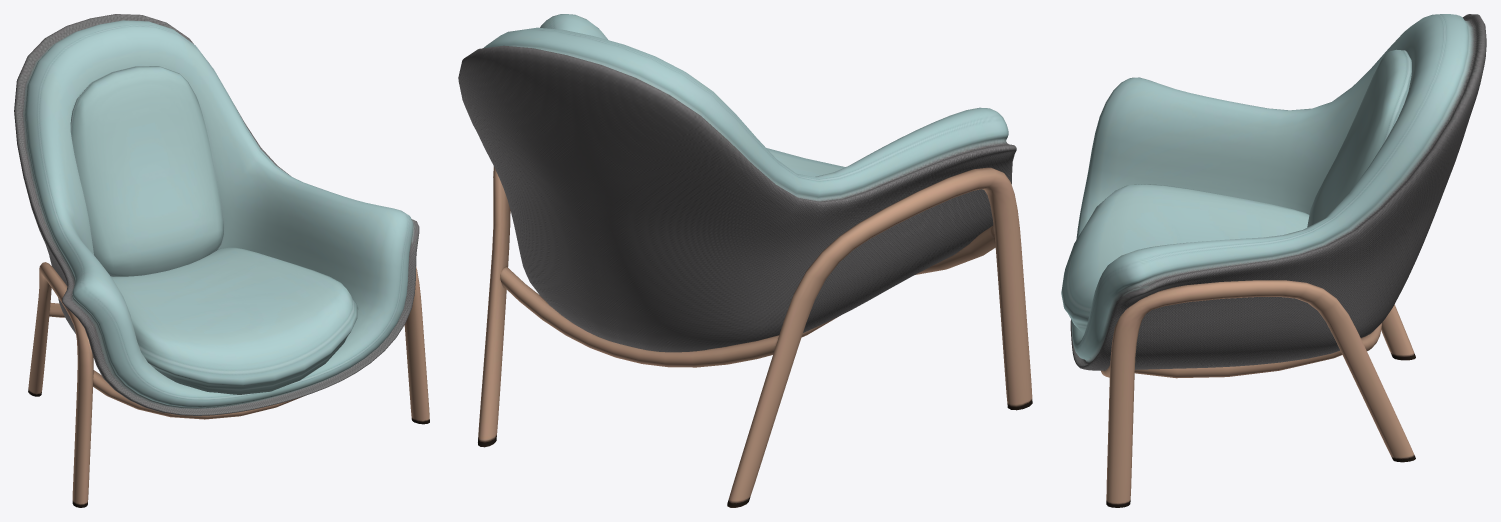
The model's file is arm-chair.gltf.
3 renders of one model, left to right at view 1: azimuth 30°, elevation 25°; view 2: azimuth 150°, elevation 25°; view 3: azimuth 270°, elevation 25°, orthographic. The views are drawn at different scales.
Parts seen in each view (by area): view 1: defaultMaterial; view 2: defaultMaterial; view 3: defaultMaterial.
Boxes of the visible parts, bbox=[...] form: defaultMaterial: bbox=[14, 14, 429, 507]; defaultMaterial: bbox=[458, 14, 1032, 507]; defaultMaterial: bbox=[1061, 14, 1486, 507].
Size of the model in its own units: 41.68 by 36.92 by 37.75.
1 material, 1 textured.
